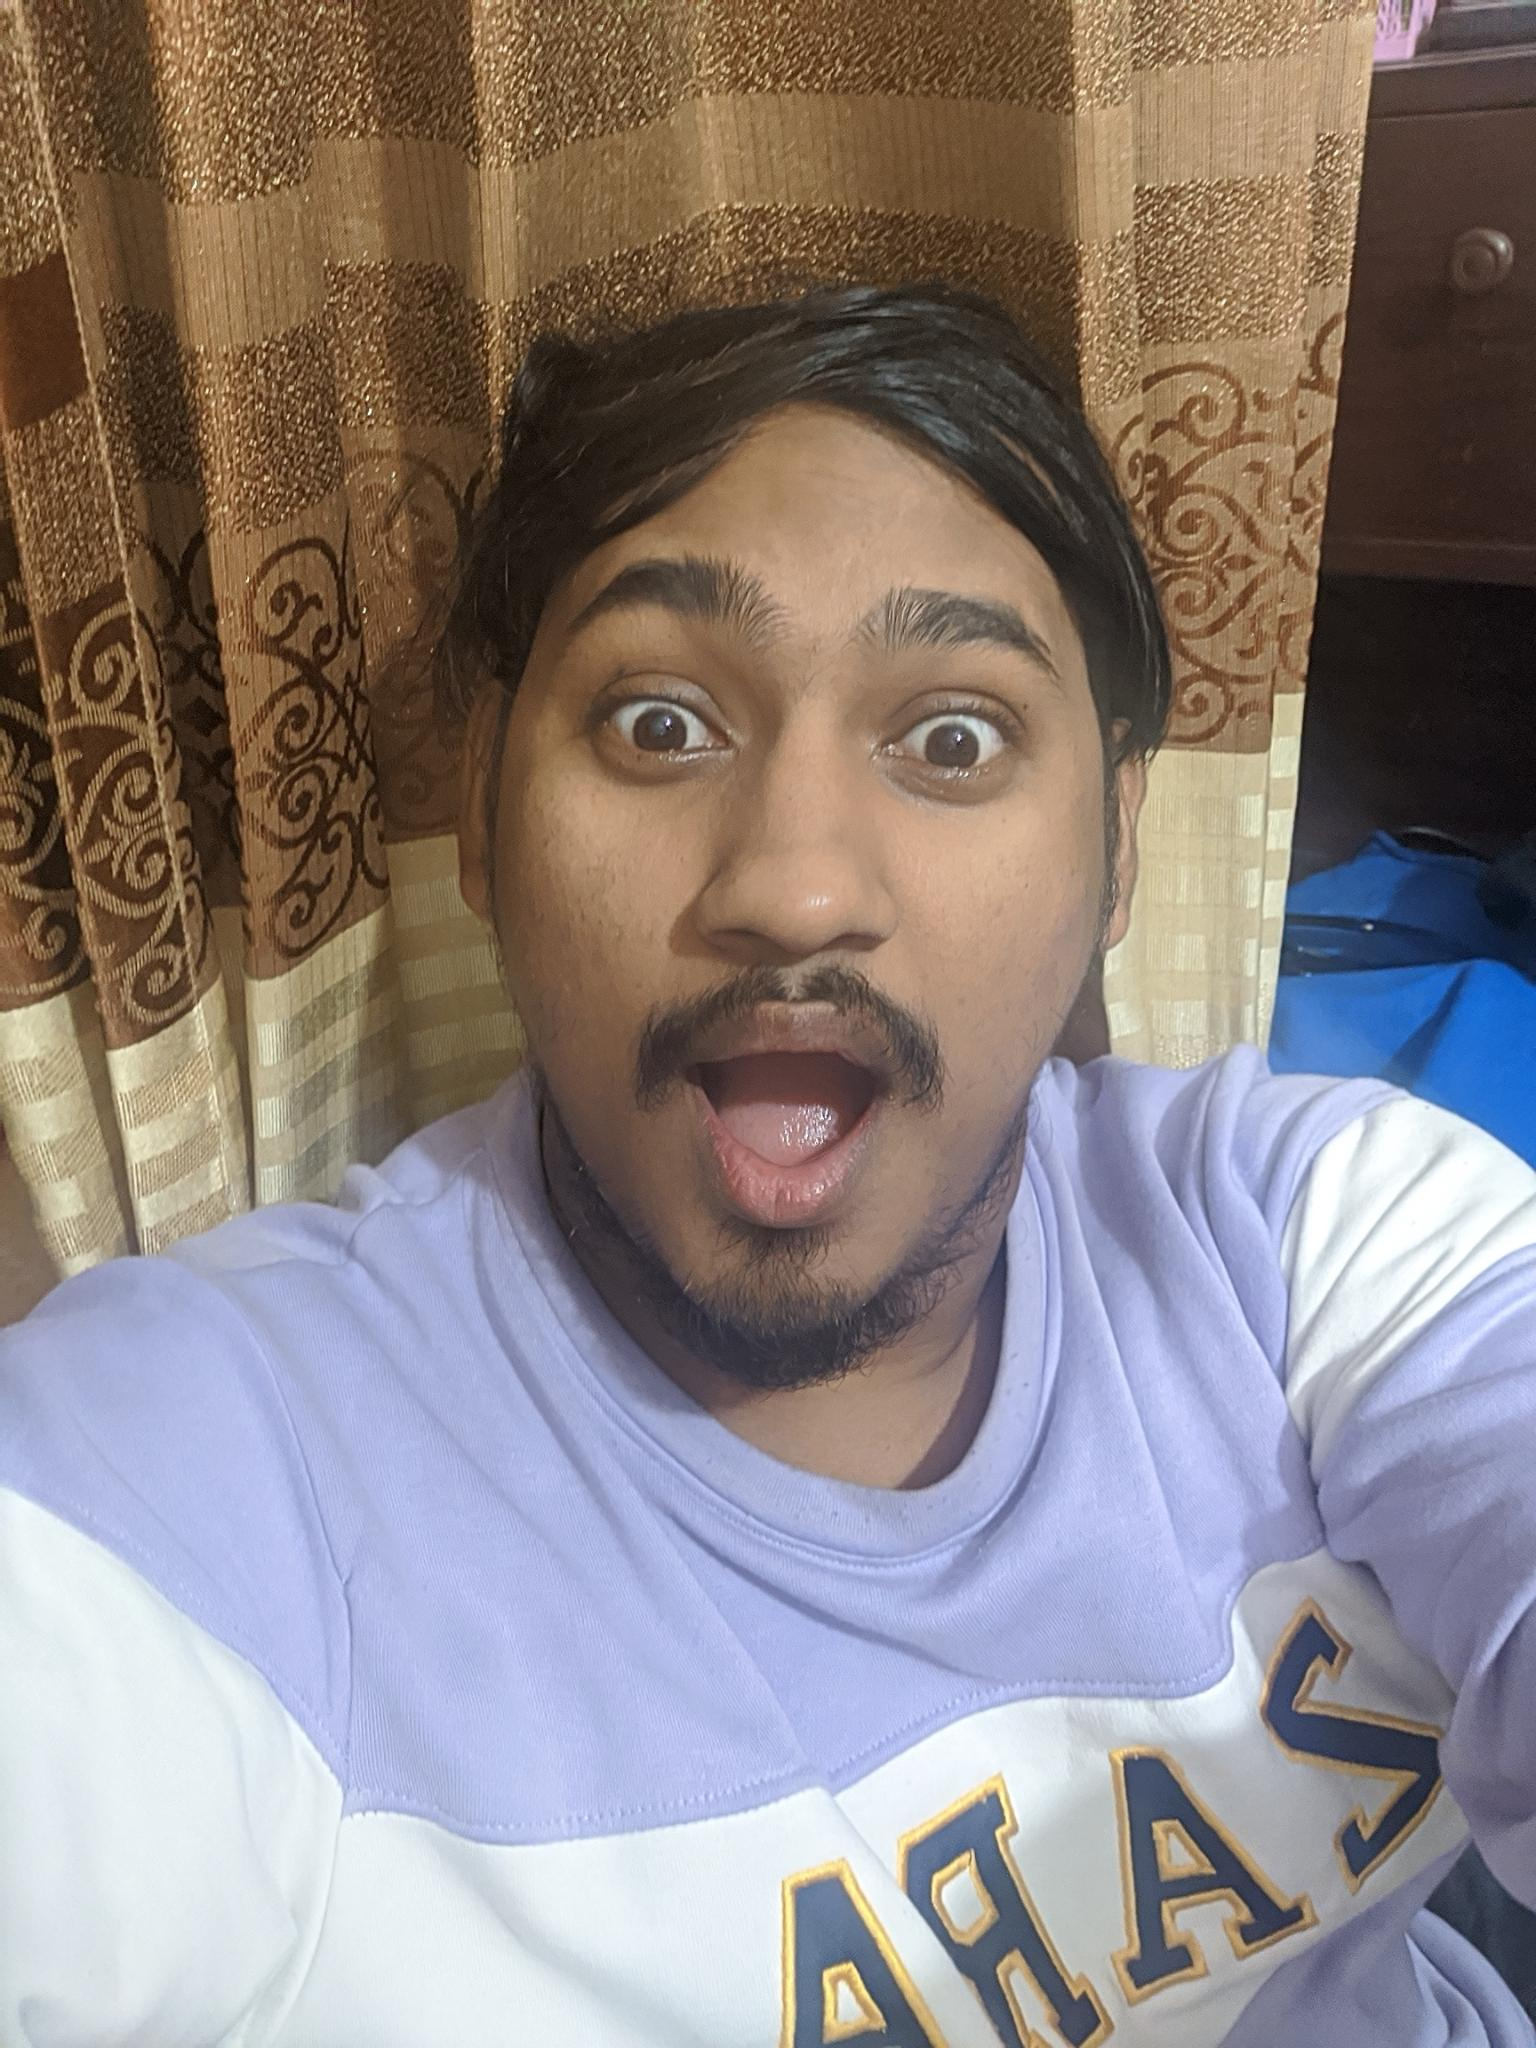Surprise: (503, 460, 1084, 1337)
